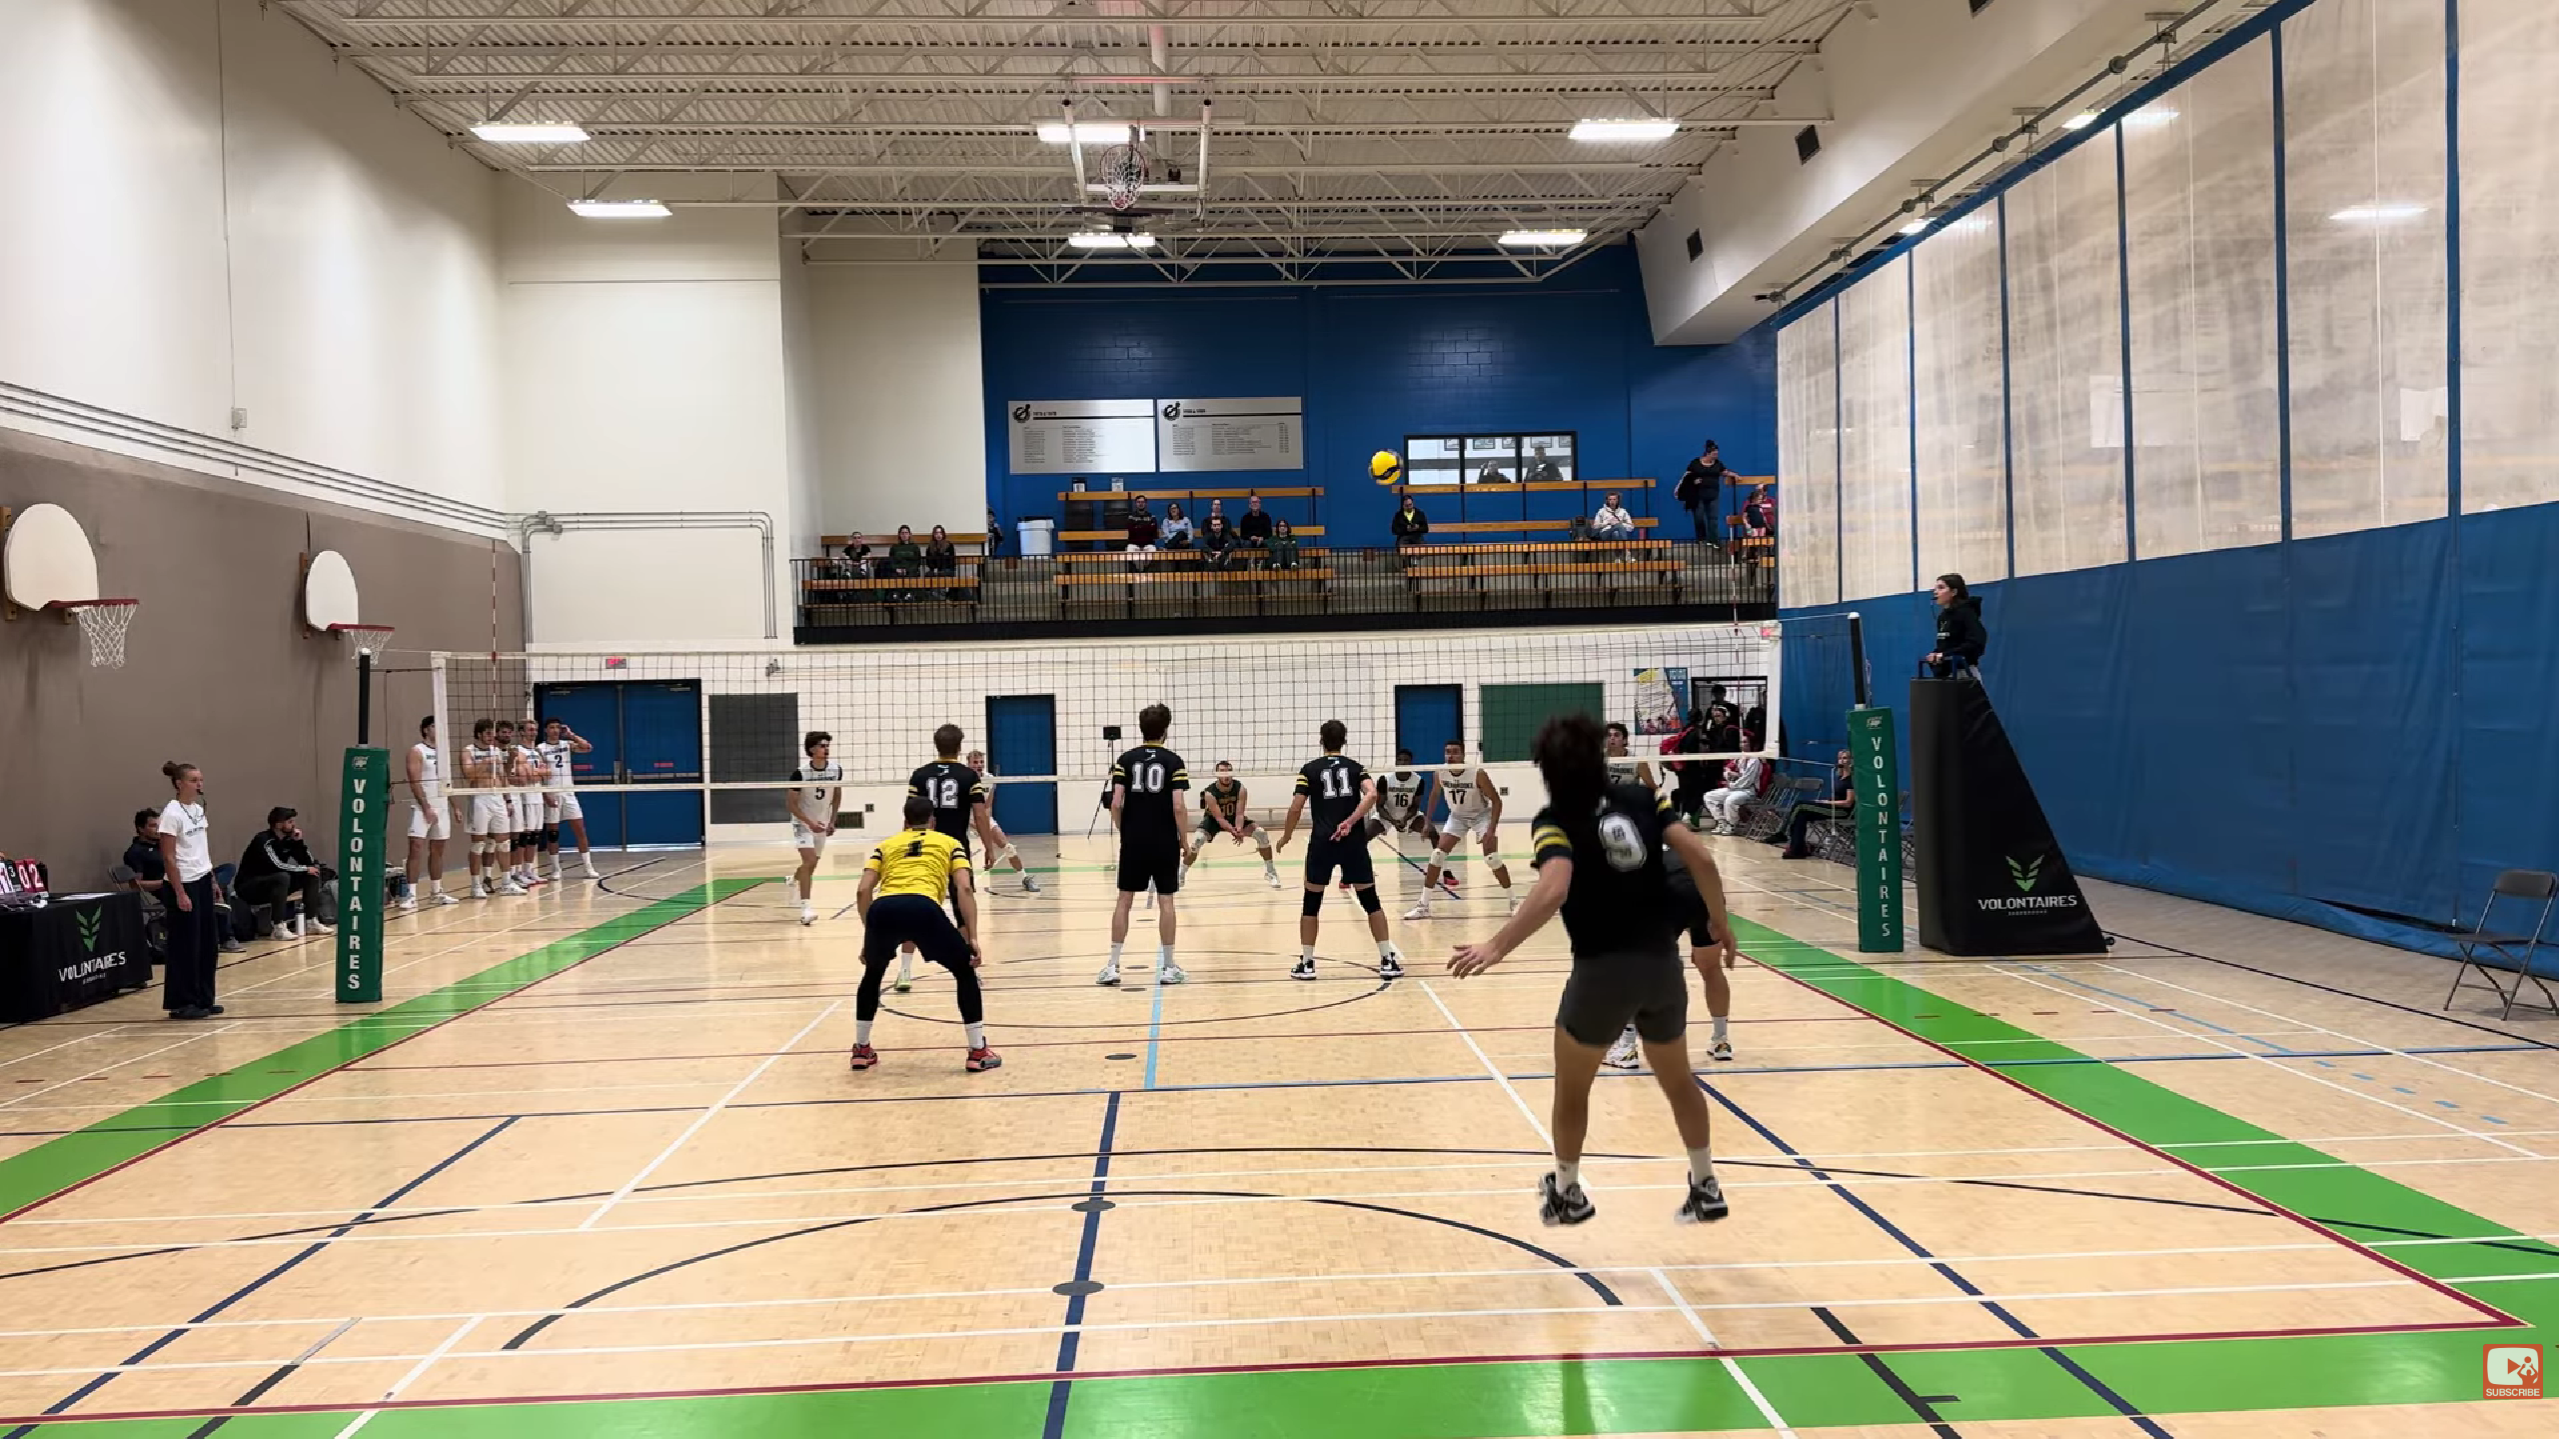Ball: (1367, 446, 1406, 487)
